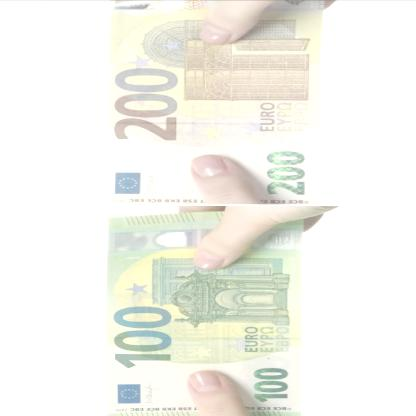euro_banknote: (112, 2, 324, 206), (105, 217, 309, 411)
